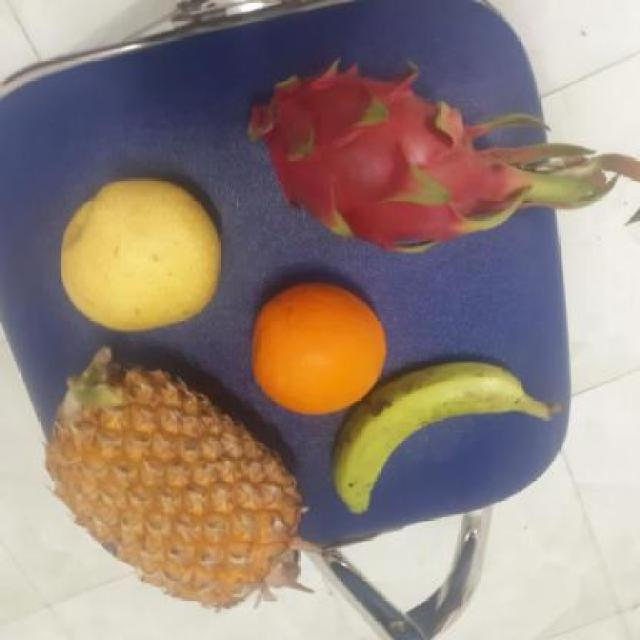banana: (327, 355, 528, 516)
dragon fruit: (254, 72, 497, 252)
oren: (249, 277, 389, 421)
pear: (58, 177, 222, 337)
pineapple: (46, 366, 294, 619)
